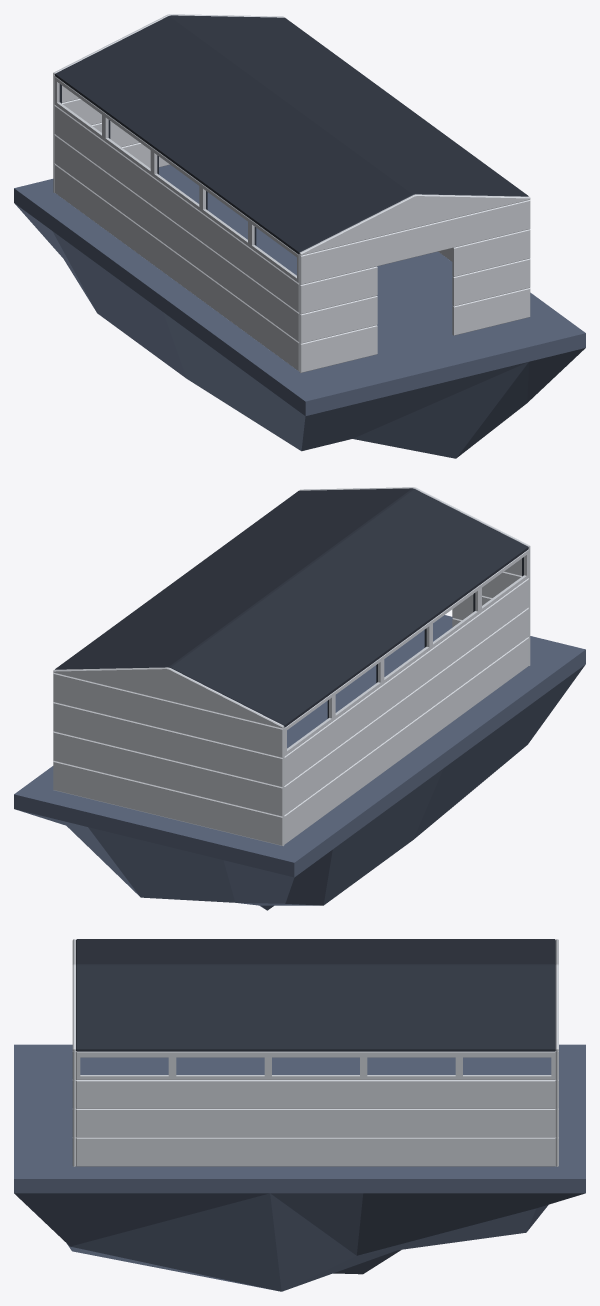
The model's file is hangar.glb.
3 views of the same model, one above another, from view 1: azimuth 30°, elevation 25°; view 2: azimuth 150°, elevation 25°; view 3: azimuth 270°, elevation 25° (orthographic).
Visible parts, largest first — view 1: Cube; view 2: Cube; view 3: Cube.
Part boxes in pixels (x1=…): Cube: x1=14, y1=14, x2=585, y2=458; Cube: x1=14, y1=487, x2=585, y2=910; Cube: x1=14, y1=939, x2=585, y2=1291.
Size of the model in its own units: 20 by 21.48 by 36.
Materials: 1 (1 with a texture image).
